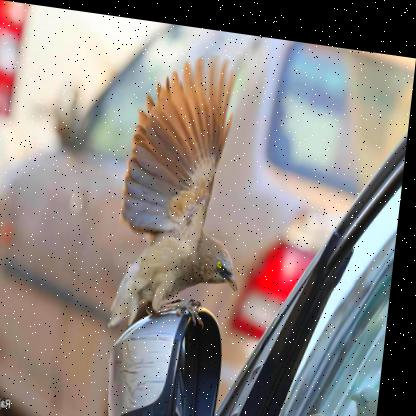Burung: (114, 39, 264, 338)
